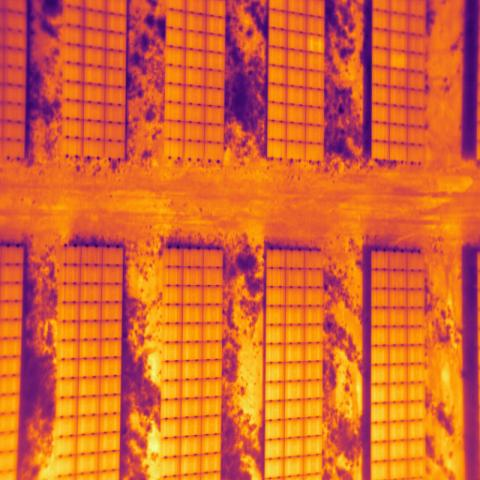fault: (390, 49, 408, 70), (307, 34, 324, 55)
